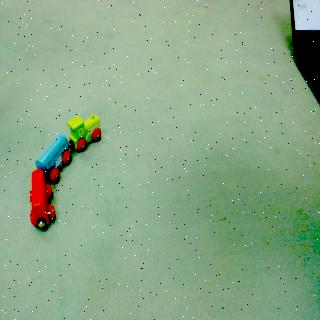train: (25, 112, 105, 240)
